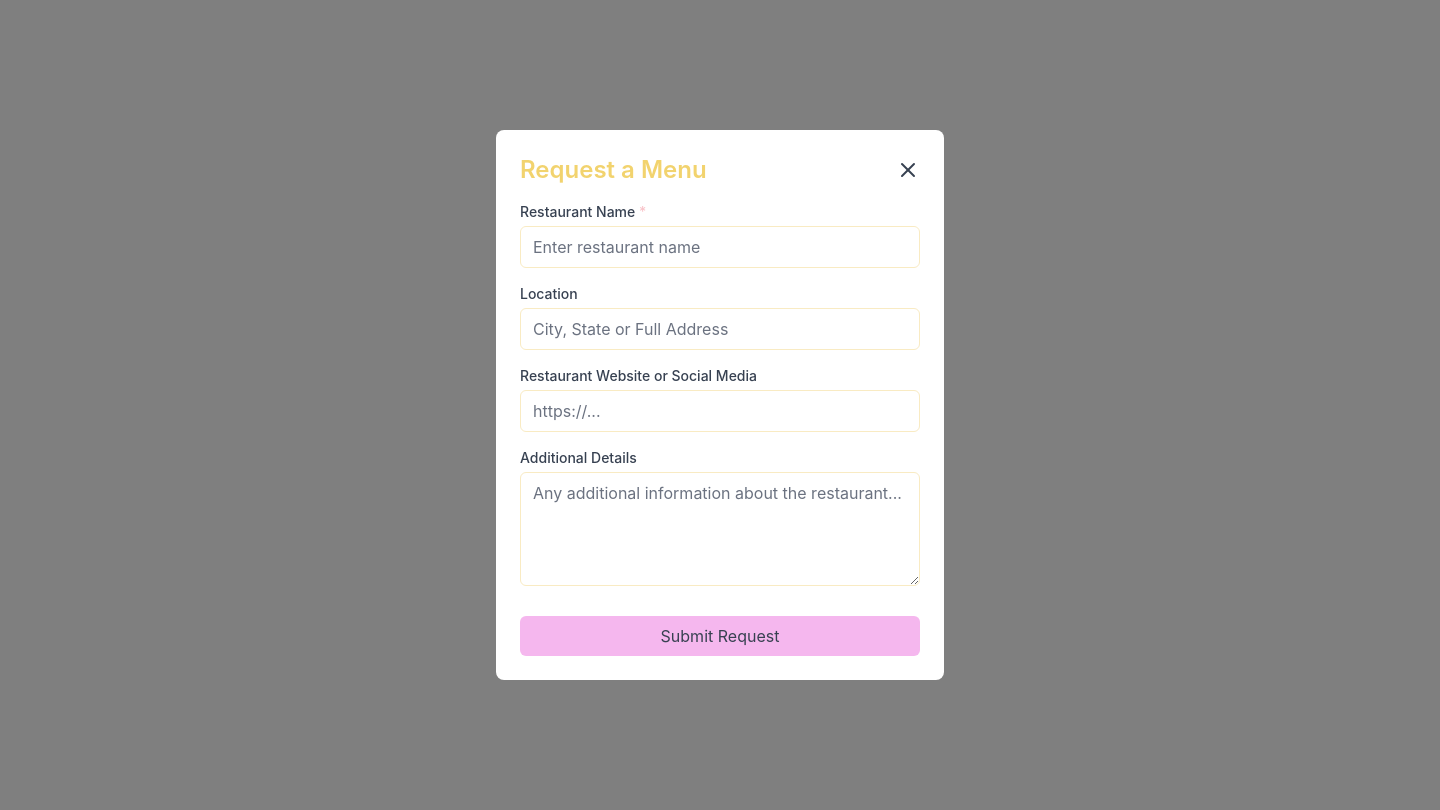
Test case: RequestMenuModal › submits form and shows success message
Type "Test Restaurant" into the field labelled "Restaurant Name *" at x=720, y=247, box [520,226,920,268]
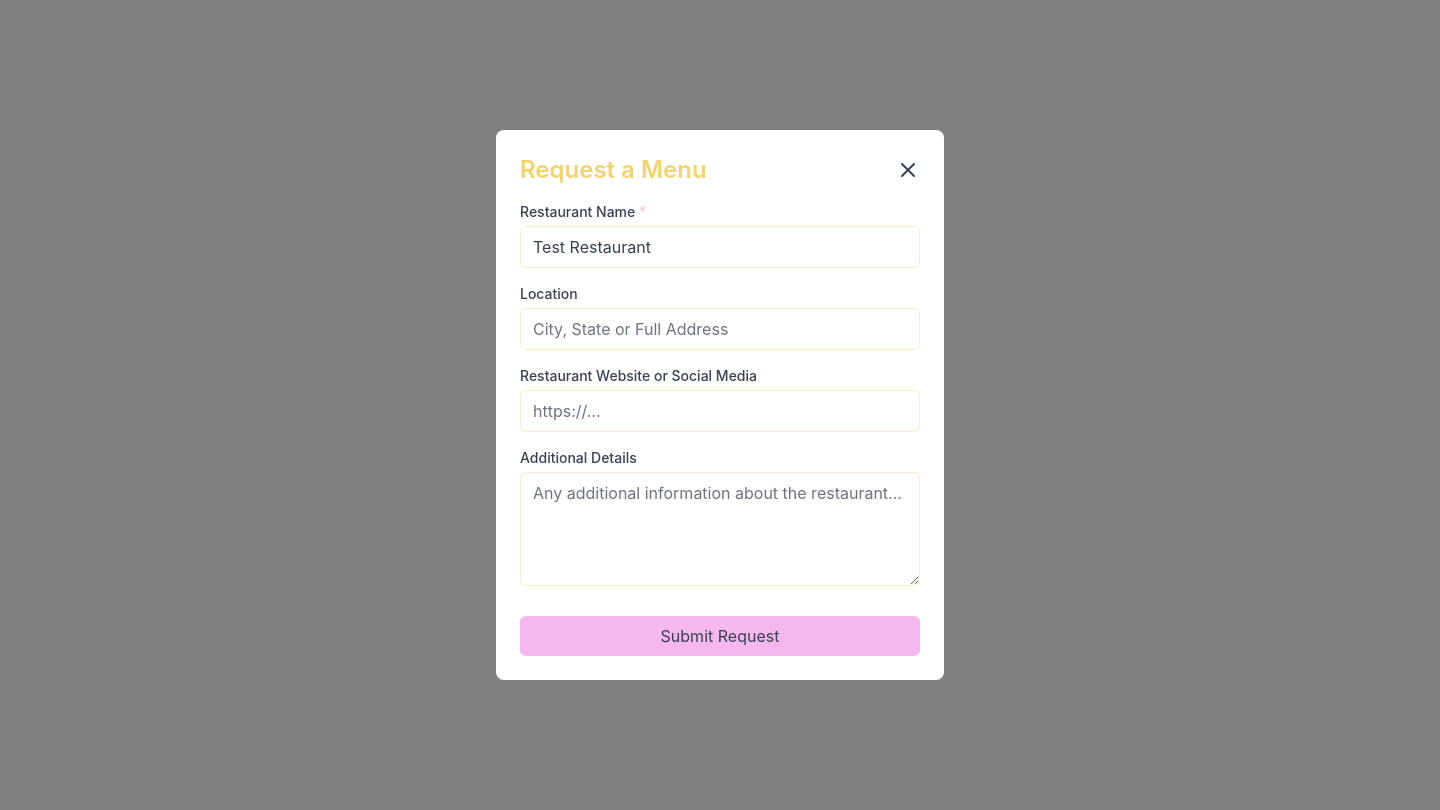
Type "NYC" into the field labelled "Location" at x=720, y=329, box [520,308,920,350]
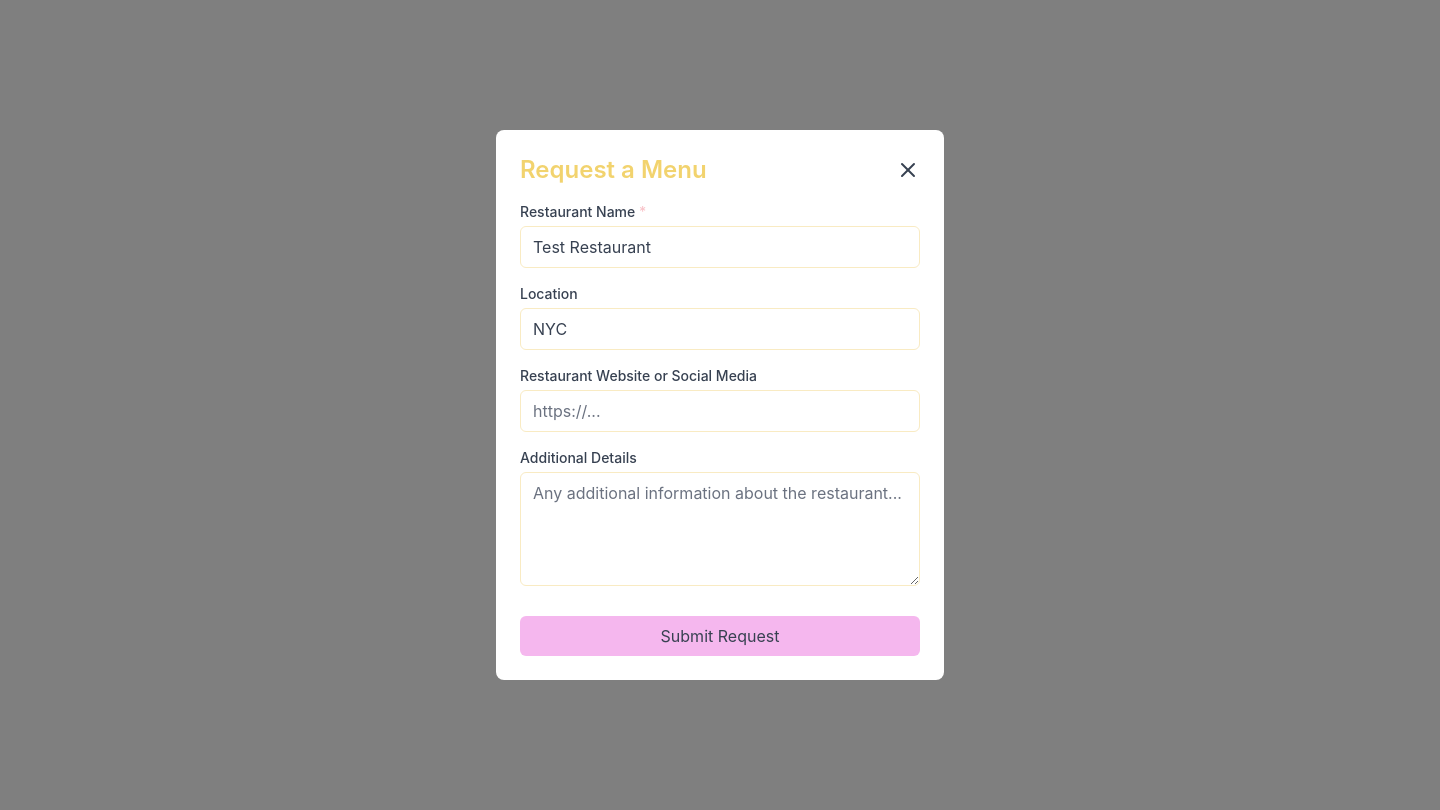
Type "https://example.com" into the field labelled "Restaurant Website or Social Media" at x=720, y=411, box [520,390,920,432]
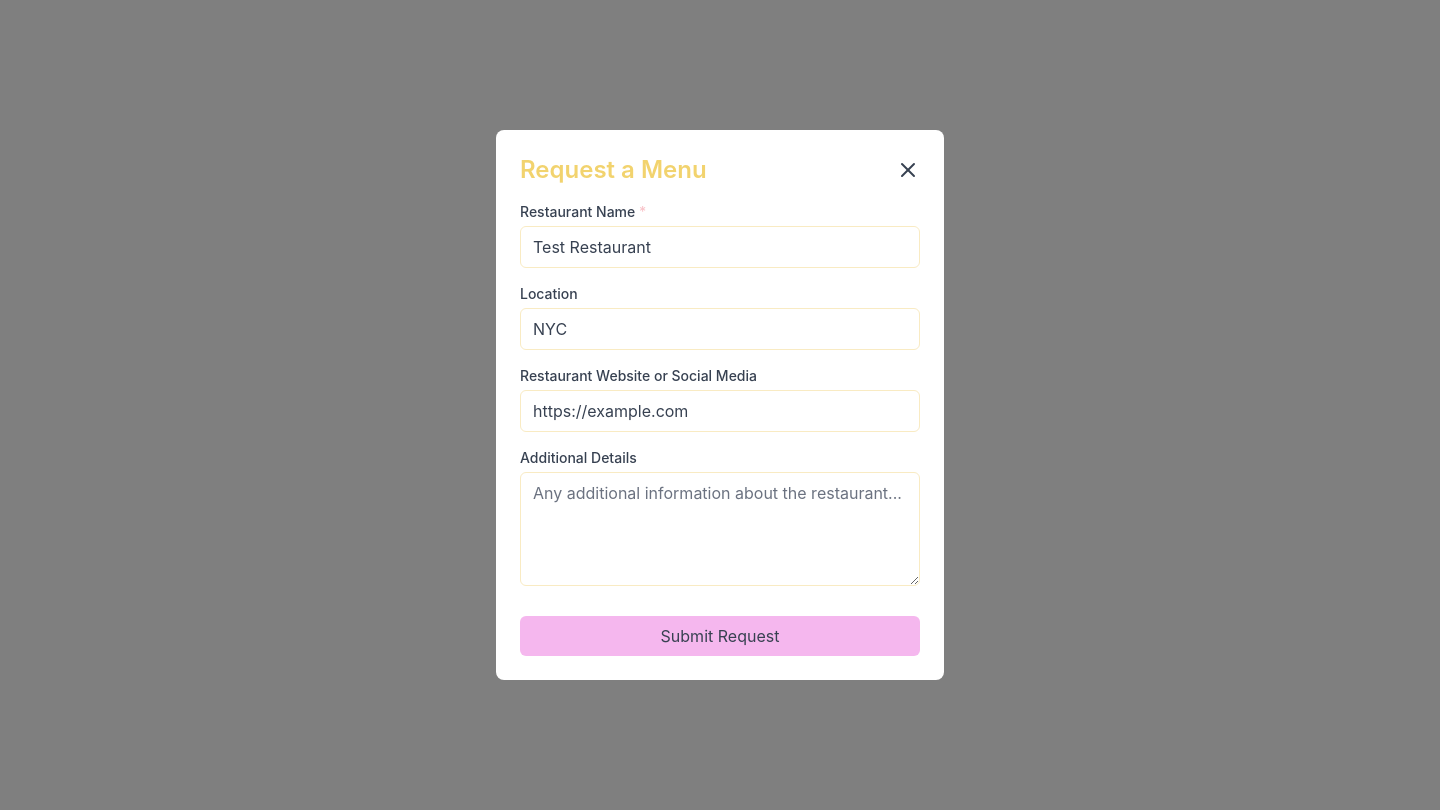
Type "Nice place" into the text box labelled "Additional Details" at x=720, y=529, box [520,472,920,586]
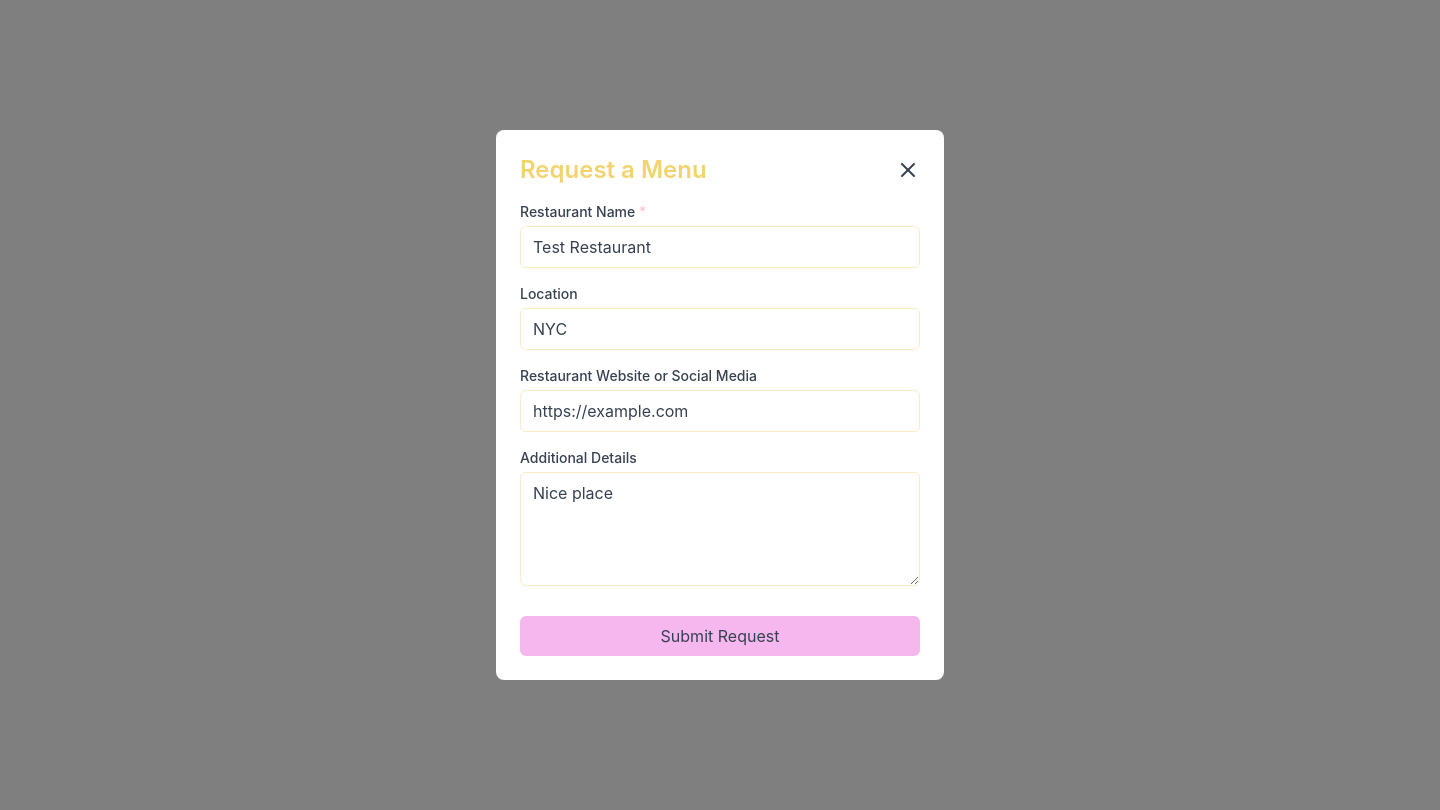
Click the button "Submit Request" at x=720, y=636, box [520,616,920,656]
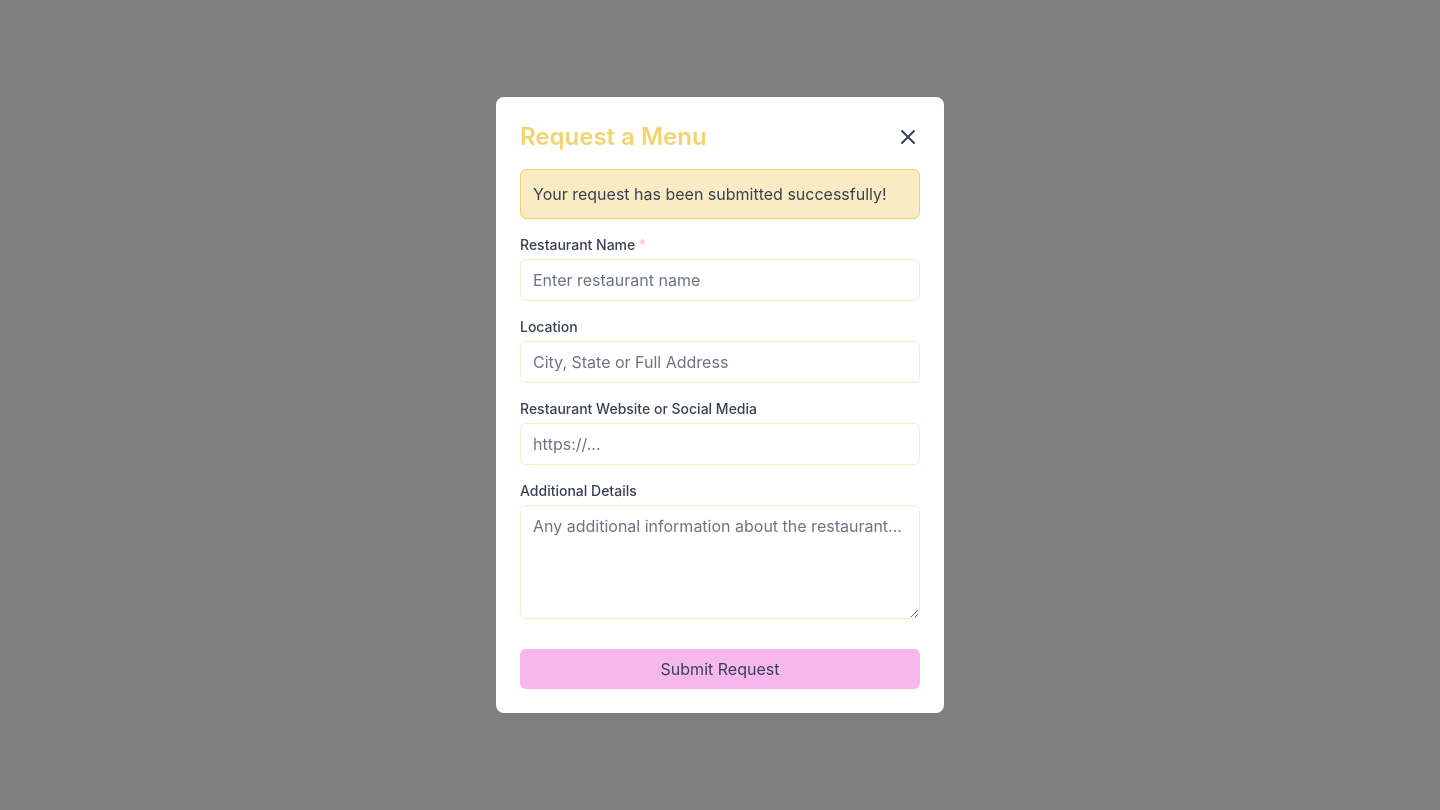
Now the text "Your request has been submitted successfully!" is shown, box [520,169,920,219]
